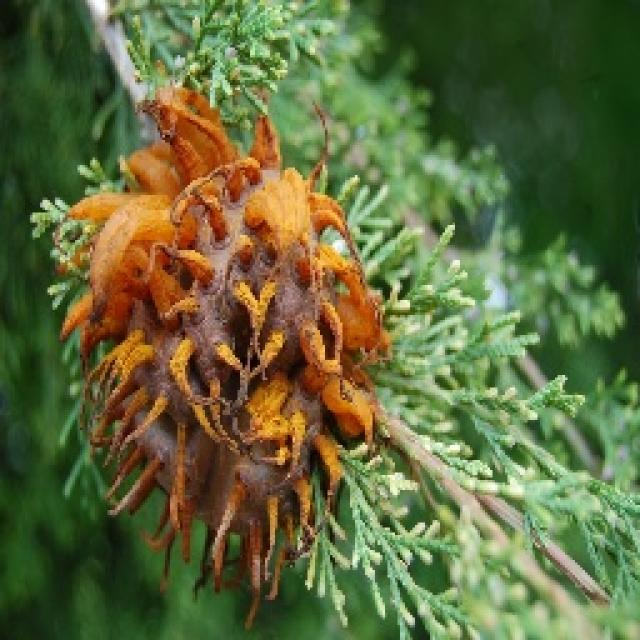Gymnosporangium_Rusts: (30, 80, 395, 625)
